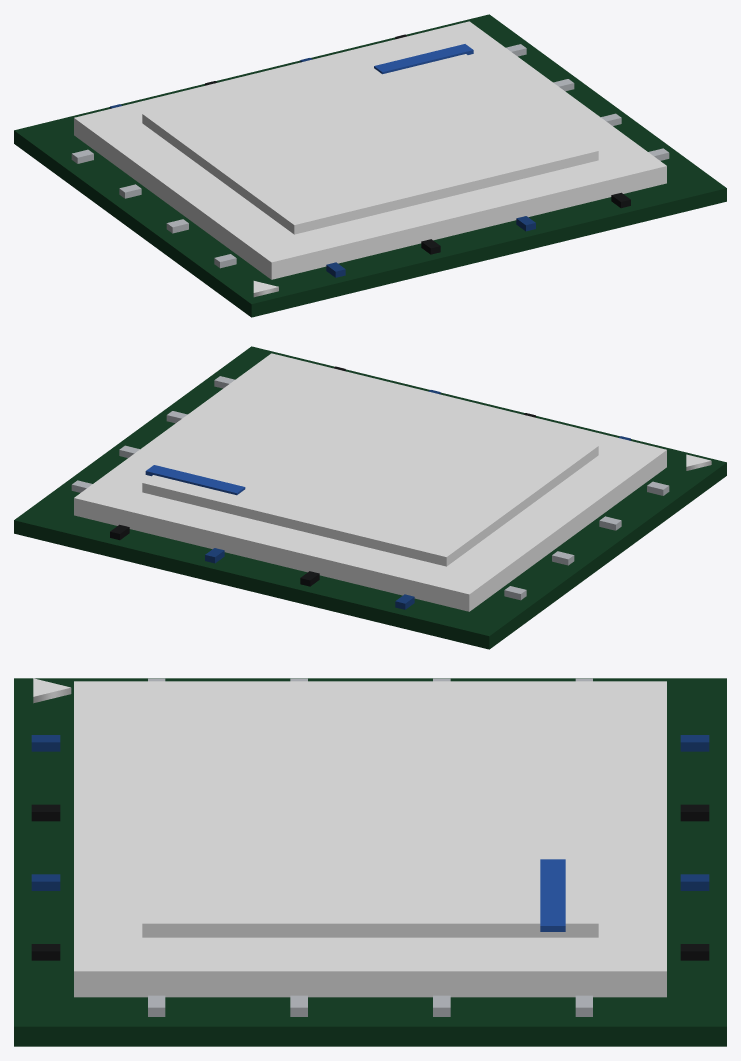
The model's file is hw_cpu_xeon_6c.glb.
3 views of the same model, one above another, from view 1: azimuth 30°, elevation 25°; view 2: azimuth 150°, elevation 25°; view 3: azimuth 270°, elevation 25° (orthographic). The views are drawn at different scales.
Parts seen in each view (by area): view 1: Body; view 2: Body; view 3: Body.
Part boxes in pixels (x1=…): Body: x1=14, y1=14, x2=726, y2=317; Body: x1=14, y1=346, x2=726, y2=649; Body: x1=14, y1=678, x2=726, y2=1046.
Bounding box in the file's own units: 0.052 × 0.00467 × 0.045.
